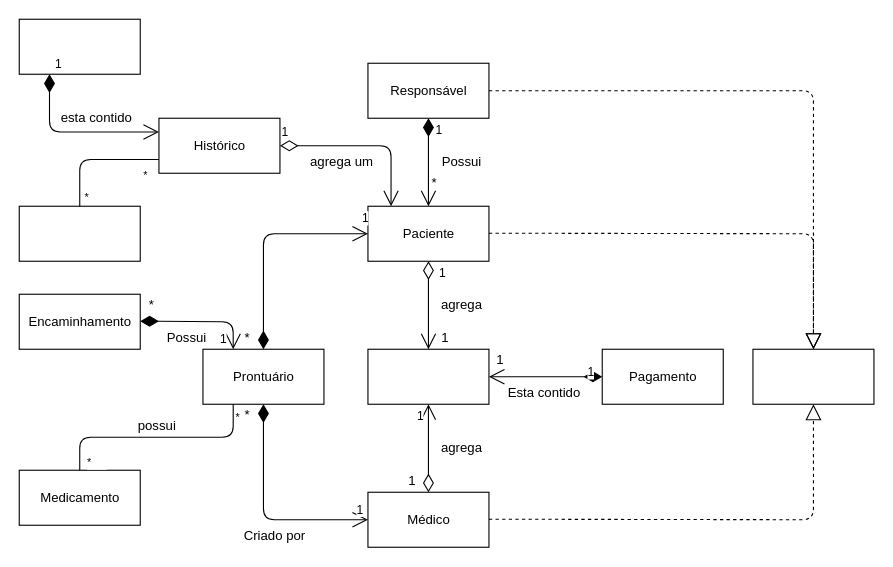
The diagram is 893 pixels wide and 567 high, and some of its shapes have lost their labels. The shapes that lost their labels are listed below. From the top down, each one's box as (x1, y1, x2, y2) in pixels, then its label:
(18, 18, 140, 74): Medição
(18, 205, 140, 261): Vacina
(367, 348, 489, 404): Consulta
(752, 348, 874, 404): Pessoa
